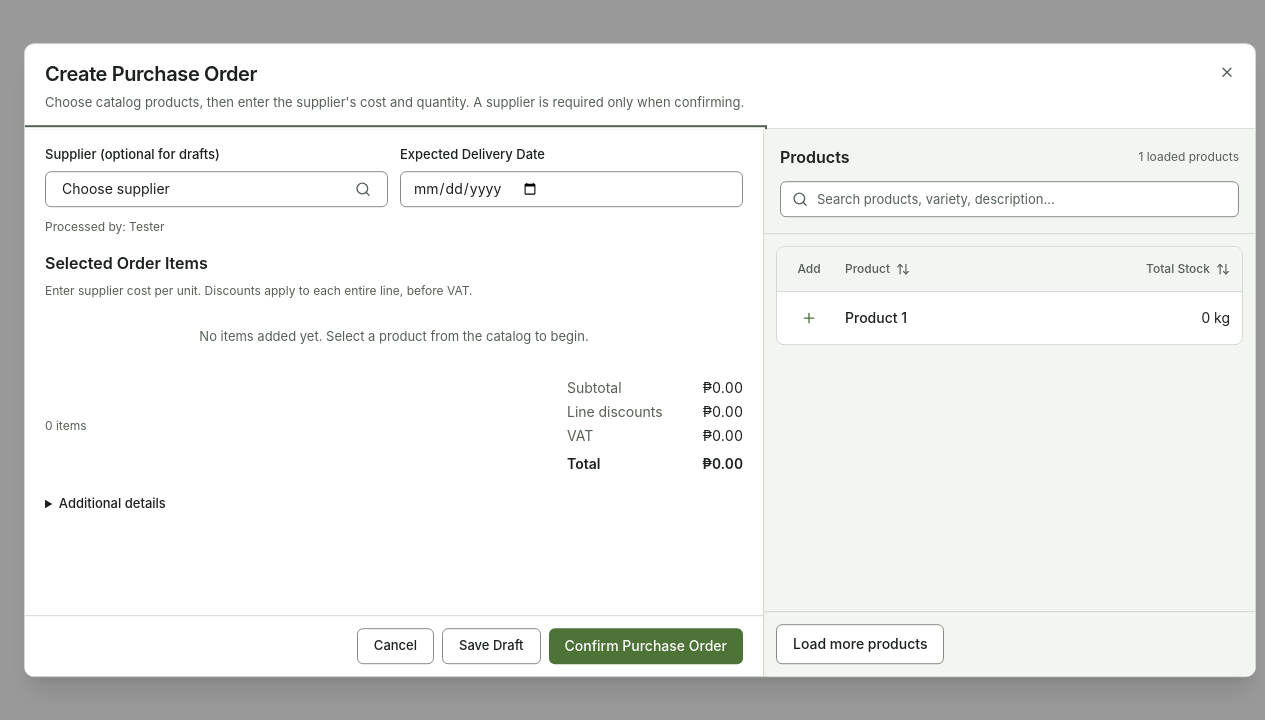
it: PO recovers invalid party cursors explicitly and keeps form data
Click the button with aria-label "Search and choose a supplier" at (116, 188), box x1=45 y1=171 x2=388 y2=207
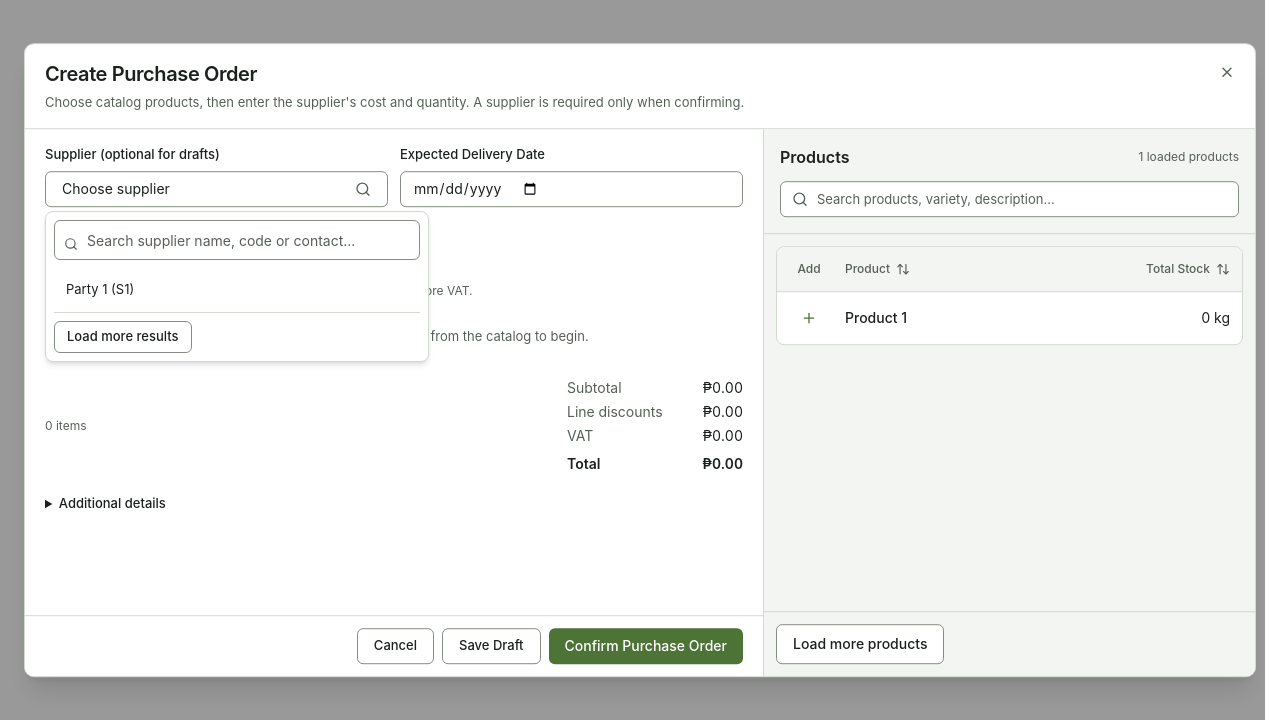
Click the button "Load more results" at (123, 337), box x1=54 y1=321 x2=192 y2=353
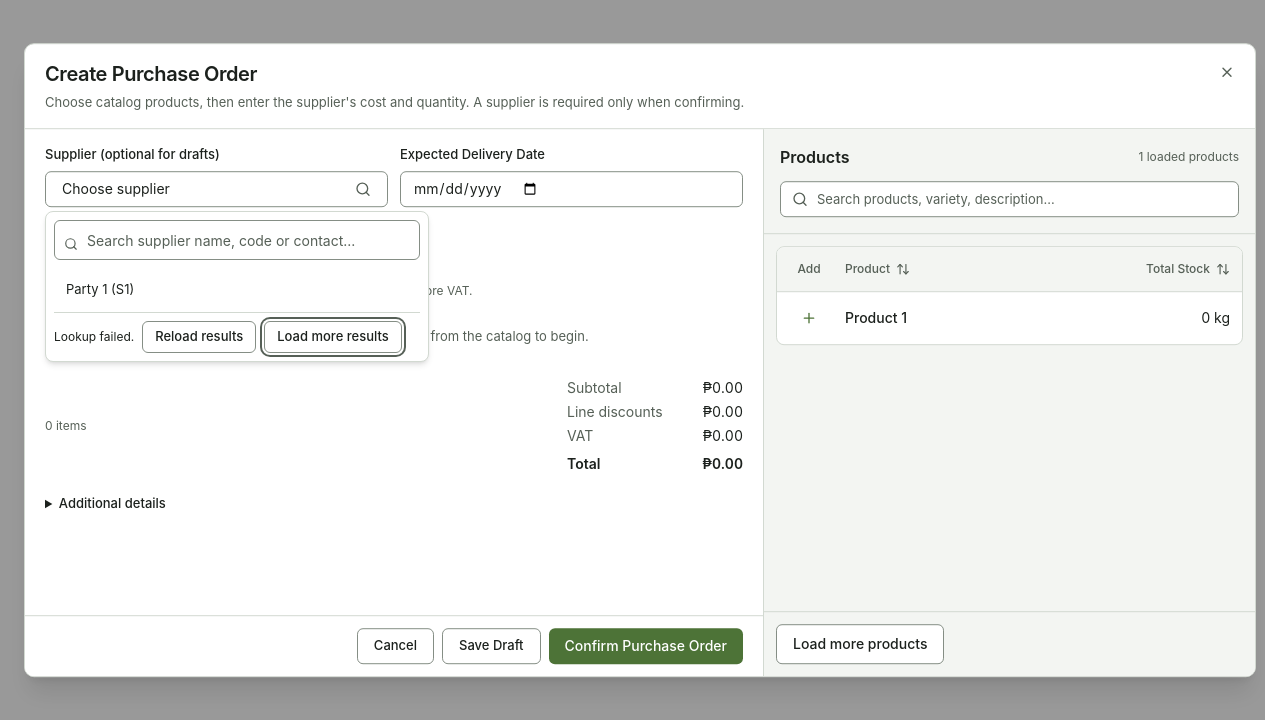
Check: the button "Reload results" is shown
Click the button "Reload results" at (199, 337), box x1=142 y1=321 x2=256 y2=353
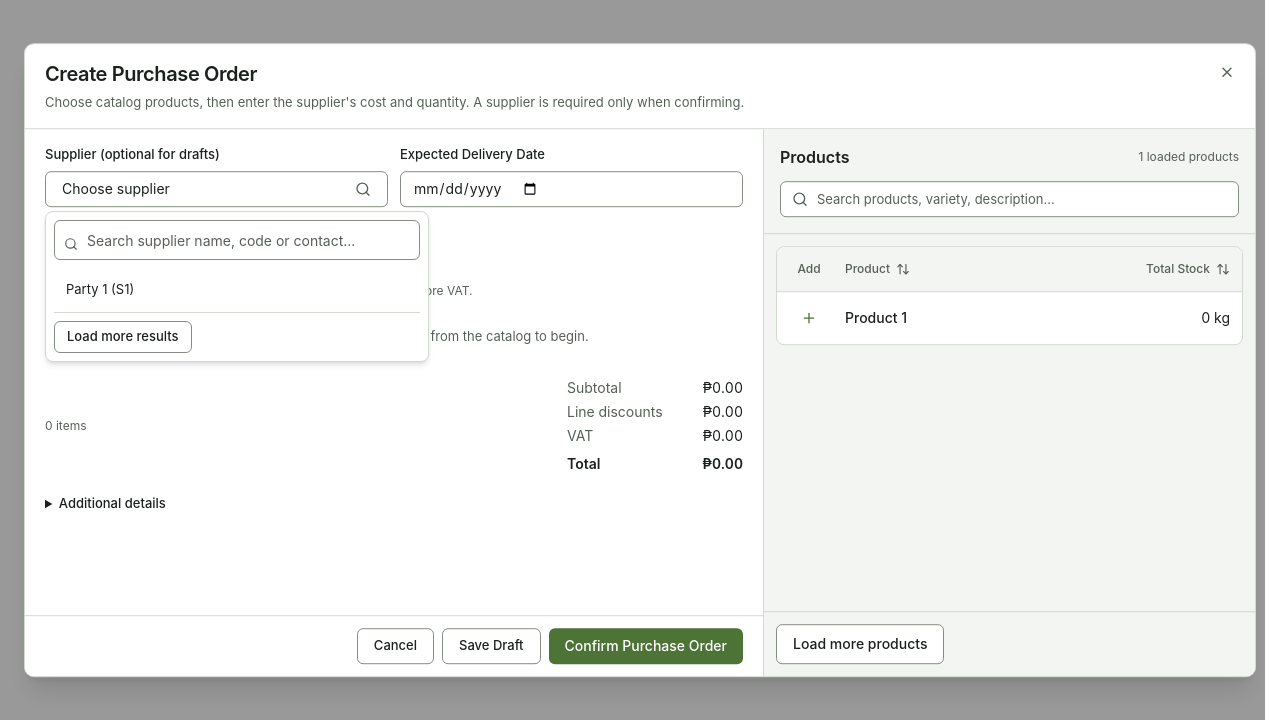
Click the menu item "Party 1 (S1)" at (100, 289), box x1=66 y1=281 x2=134 y2=297
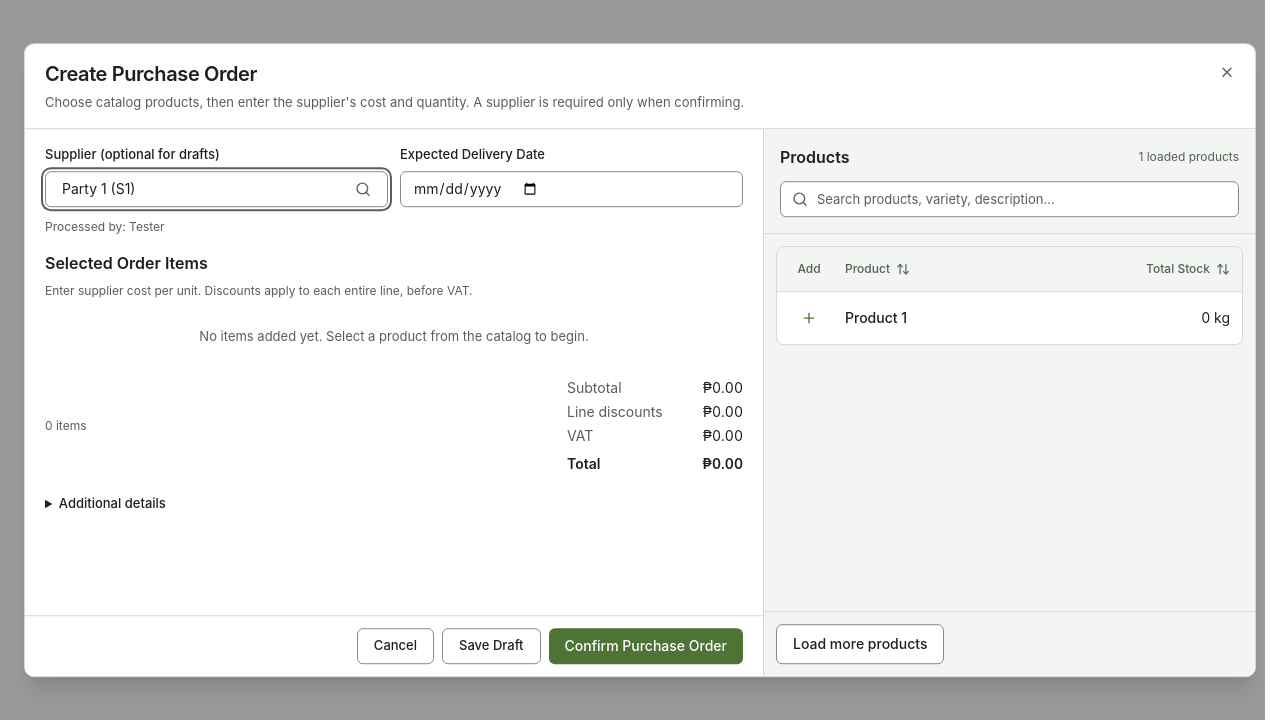
Check: the button with aria-label "Search and choose a supplier" shows "Party 1", box x1=45 y1=171 x2=388 y2=207
